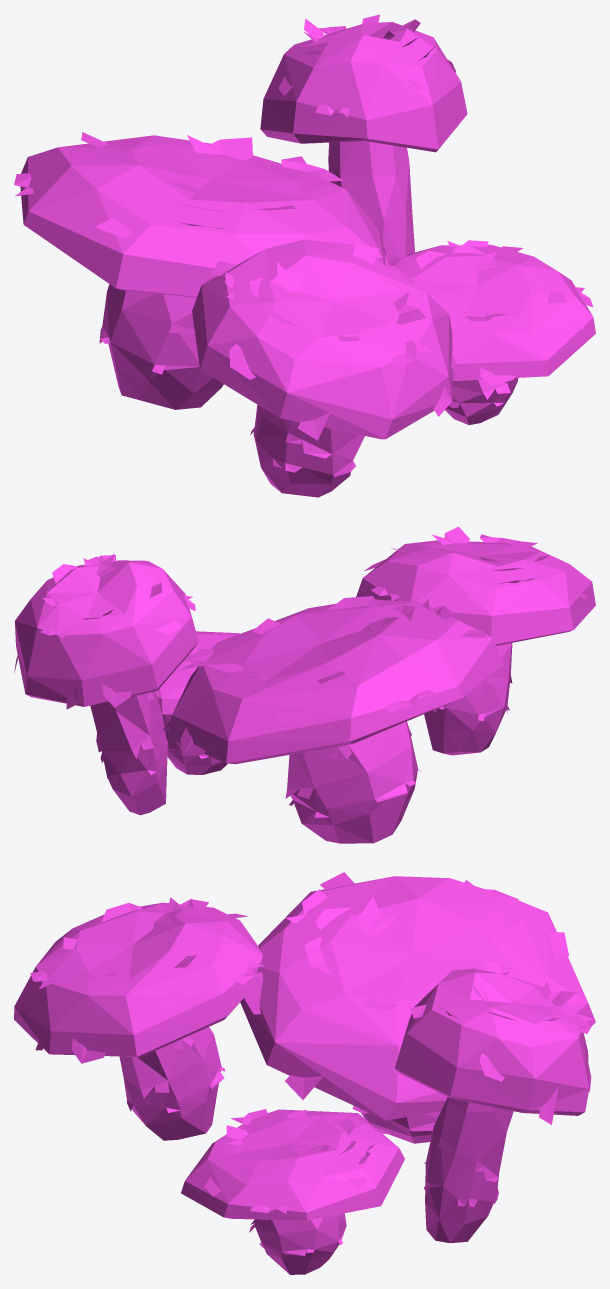
Rendered from SM_Mushroom_Fluffy_Big_Claster_A_Fantasy.fbx.
3 views of the same model, one above another, from view 1: azimuth 30°, elevation 25°; view 2: azimuth 150°, elevation 25°; view 3: azimuth 270°, elevation 25° (orthographic). The views are drawn at different scales.
Parts seen in each view (by area): view 1: SM_Mushroom_Fluffy_Big_Claster_A_Fantasy; view 2: SM_Mushroom_Fluffy_Big_Claster_A_Fantasy; view 3: SM_Mushroom_Fluffy_Big_Claster_A_Fantasy.
Boxes of the visible parts, x1,y1,x2,y2 form: SM_Mushroom_Fluffy_Big_Claster_A_Fantasy: (14, 14, 595, 497); SM_Mushroom_Fluffy_Big_Claster_A_Fantasy: (14, 526, 595, 843); SM_Mushroom_Fluffy_Big_Claster_A_Fantasy: (14, 872, 595, 1274).
Size of the model in its own units: 2.12 by 1.34 by 2.43.
